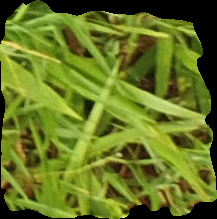grass: (1, 1, 216, 218)
